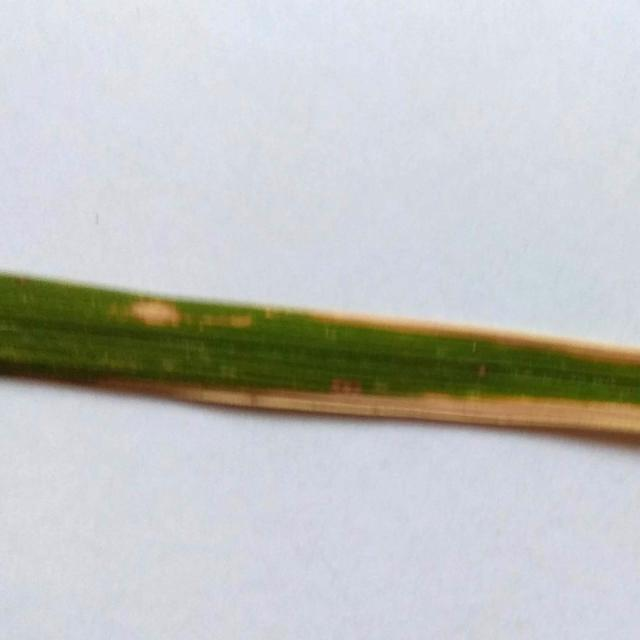Leaf_Blast: (85, 281, 235, 345)
